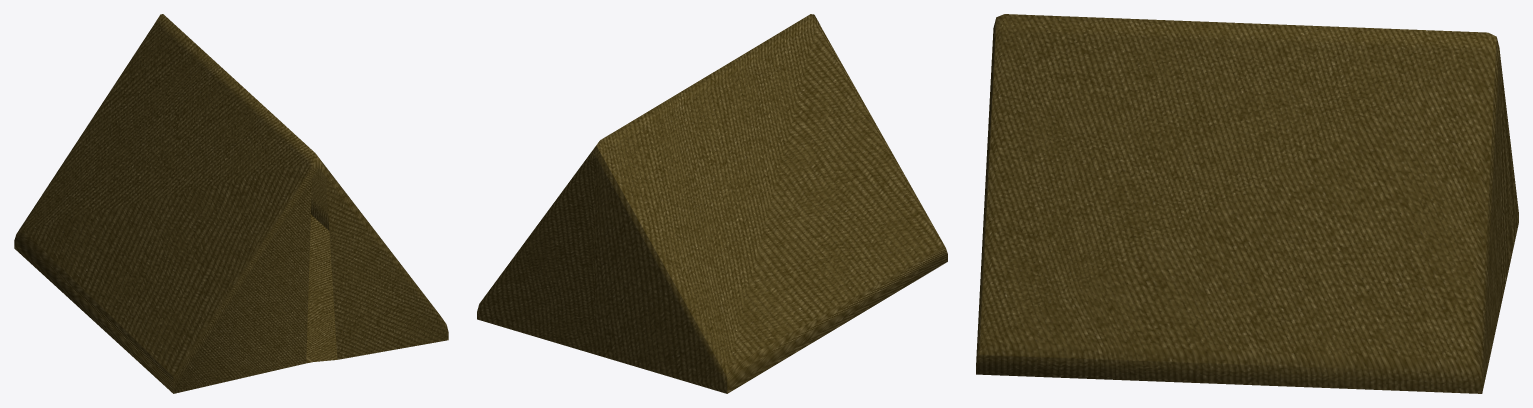
Rendered from Tienda de Acampar.fbx.
3 views of the same model, side by side, from view 1: azimuth 30°, elevation 25°; view 2: azimuth 150°, elevation 25°; view 3: azimuth 270°, elevation 25° (orthographic). The views are drawn at different scales.
Parts seen in each view (by area): view 1: Tienda de Acampar002; view 2: Tienda de Acampar002; view 3: Tienda de Acampar002.
Part boxes in pixels (box(x1,y1,x2,y2)): Tienda de Acampar002: box(14, 14, 448, 393); Tienda de Acampar002: box(477, 14, 947, 393); Tienda de Acampar002: box(976, 14, 1518, 393).
Size of the model in its own units: 5.09 by 3.49 by 6.13.
